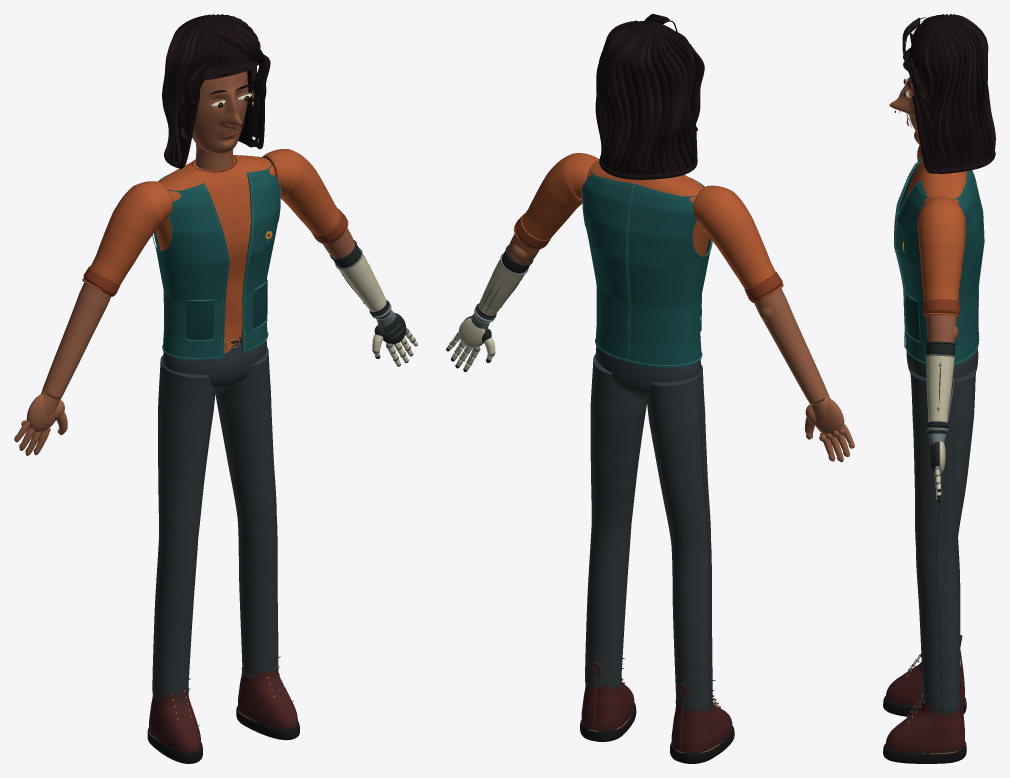
The picture shows the model from 3 angles, left to right: view 1: azimuth 30°, elevation 25°; view 2: azimuth 150°, elevation 25°; view 3: azimuth 270°, elevation 25°; orthographic projection.
Parts seen in each view (by area): view 1: Right trouser leg, Left trouser leg, Waistcoat / shaped open shell, Hair / Hair / near-black aubergine, Inner shirt / continuous soft torso, Boots / Boot / oxblood leather, Right shirt sleeve, Left shirt sleeve, Head / integrated nose cheek brow jaw sculpt, Right biological forearm, Hair / Hair / broad chestnut waves, Trousers / narrow pelvis (+7 smaller); view 2: Waistcoat / shaped open shell, Right trouser leg, Left trouser leg, Hair / Hair / near-black aubergine, Hair / Hair / broad chestnut waves, Right shirt sleeve, Boots / Boot / oxblood leather, Left shirt sleeve, Right biological forearm, Trousers / narrow pelvis, Right hand / 01 / warm umber skin, Left prosthesis / Prosthesis / warm ceramic polymer shell (+3 smaller); view 3: Left trouser leg, Hair / Hair / near-black aubergine, Waistcoat / shaped open shell, Left shirt sleeve, Boots / Boot / oxblood leather, Hair / Hair / broad chestnut waves, Left prosthesis / Prosthesis / warm ceramic polymer shell, Boots / Boot / charcoal rubber sole, Inner shirt / continuous soft torso, Hair / Hair / carved wave valleys, Left prosthesis / Prosthesis / graphite elastomer, Left elbow and residual forearm (+8 smaller).
Part boxes in pixels (x1,y1,x2,y2): Right trouser leg: [152, 355, 215, 699]; Left trouser leg: [215, 347, 278, 678]; Waistcoat / shaped open shell: [155, 168, 280, 360]; Hair / Hair / near-black aubergine: [162, 14, 270, 168]; Inner shirt / continuous soft torso: [156, 155, 275, 353]; Boots / Boot / oxblood leather: [149, 667, 297, 752]; Right shirt sleeve: [90, 181, 172, 283]; Left shirt sleeve: [262, 149, 340, 234]; Head / integrated nose cheek brow jaw sculpt: [192, 71, 248, 153]; Right biological forearm: [41, 280, 111, 400]; Hair / Hair / broad chestnut waves: [162, 14, 268, 165]; Trousers / narrow pelvis: [163, 340, 266, 390]; Waistcoat / shaped open shell: [582, 173, 710, 367]; Right trouser leg: [646, 364, 712, 712]; Left trouser leg: [585, 354, 646, 689]; Hair / Hair / near-black aubergine: [595, 14, 704, 179]; Hair / Hair / broad chestnut waves: [596, 14, 697, 175]; Right shirt sleeve: [693, 185, 775, 289]; Boots / Boot / oxblood leather: [581, 662, 732, 752]; Left shirt sleeve: [522, 153, 599, 239]; Right biological forearm: [754, 286, 828, 405]; Trousers / narrow pelvis: [596, 346, 700, 400]; Right hand / 01 / warm umber skin: [805, 394, 854, 462]; Left prosthesis / Prosthesis / warm ceramic polymer shell: [458, 256, 526, 348]; Left trouser leg: [910, 368, 975, 714]; Hair / Hair / near-black aubergine: [902, 14, 995, 173]; Waistcoat / shaped open shell: [896, 156, 983, 365]; Left shirt sleeve: [917, 196, 965, 301]; Boots / Boot / oxblood leather: [886, 635, 964, 752]; Hair / Hair / broad chestnut waves: [902, 14, 995, 170]; Left prosthesis / Prosthesis / warm ceramic polymer shell: [926, 355, 954, 472]; Boots / Boot / charcoal rubber sole: [883, 696, 966, 763]; Inner shirt / continuous soft torso: [906, 158, 966, 203]; Hair / Hair / carved wave valleys: [905, 17, 994, 169]; Left prosthesis / Prosthesis / graphite elastomer: [926, 341, 956, 502]; Left elbow and residual forearm: [926, 314, 956, 342].
Bounding box in the file's own units: 1.11 × 1.87 × 0.2674.
33 materials, 5 textured.
